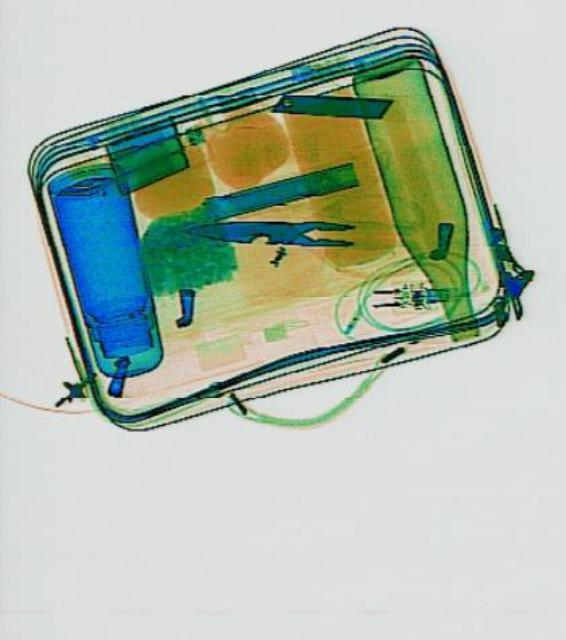Knife: (188, 216, 354, 247)
